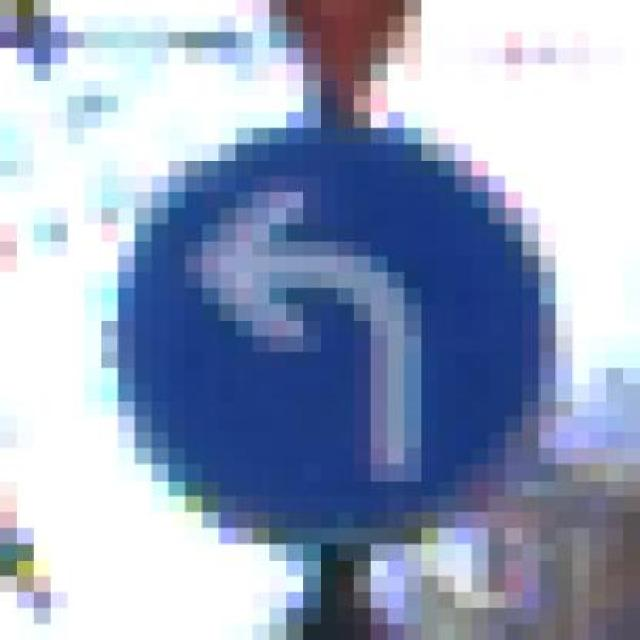Turn left ahead: (84, 96, 573, 544)
